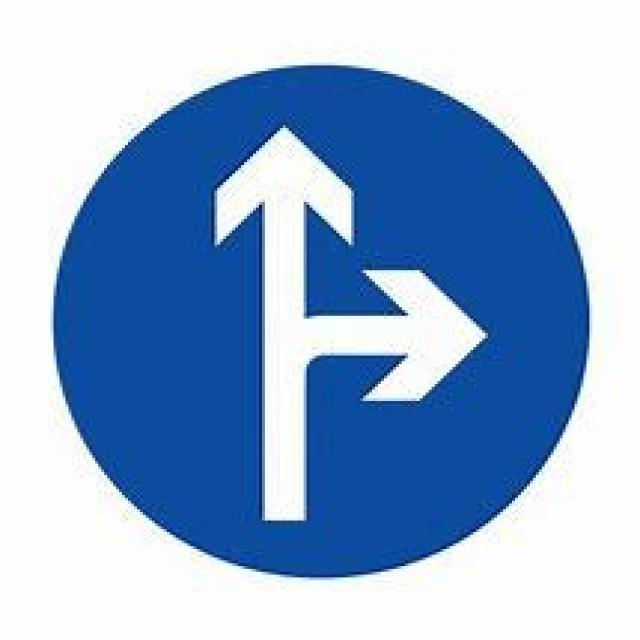compulsory_ahead_or_left: (51, 62, 590, 578)
